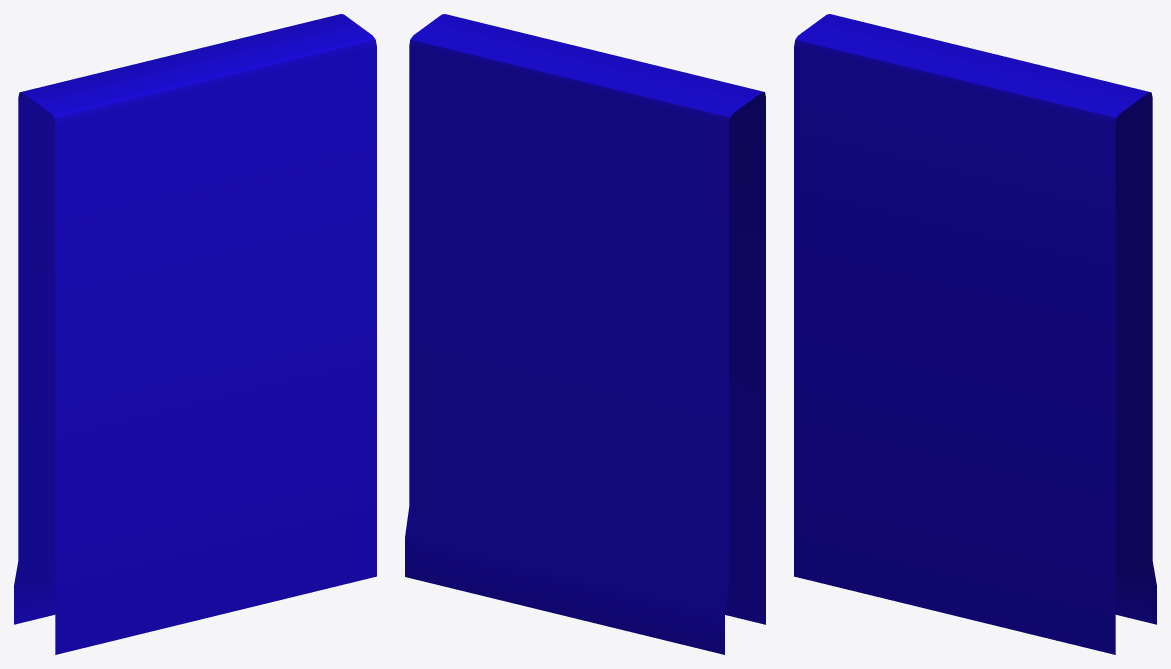
The model's file is SM_Wall.fbx.
The picture shows the model from 3 angles, left to right: view 1: azimuth 30°, elevation 25°; view 2: azimuth 150°, elevation 25°; view 3: azimuth 330°, elevation 25°; orthographic projection.
Parts seen in each view (by area): view 1: SM_Wall; view 2: SM_Wall; view 3: SM_Wall.
Boxes of the visible parts, bbox=[...] form: SM_Wall: bbox=[14, 14, 376, 654]; SM_Wall: bbox=[405, 14, 765, 654]; SM_Wall: bbox=[794, 14, 1156, 654].
Bounding box in the file's own units: 500 × 800 × 111.
